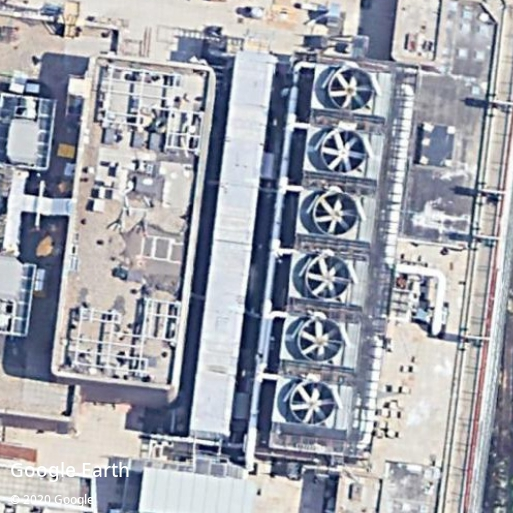Vent: (320, 129, 367, 173), (328, 68, 374, 111), (306, 256, 350, 299), (299, 318, 343, 361), (290, 381, 334, 424), (314, 192, 357, 235)
